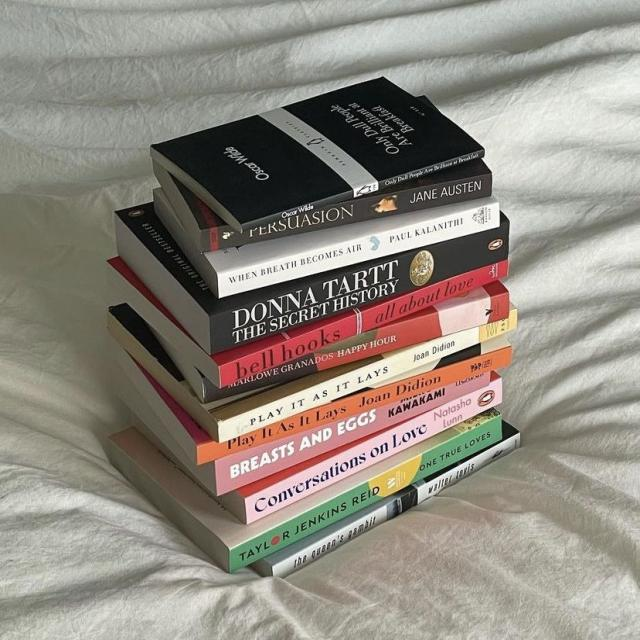book: (227, 415, 502, 577), (216, 256, 506, 392), (209, 223, 509, 354), (220, 310, 515, 443), (269, 430, 525, 582), (195, 344, 510, 465), (244, 379, 502, 525), (216, 201, 499, 299), (205, 176, 491, 258), (241, 147, 482, 234)
